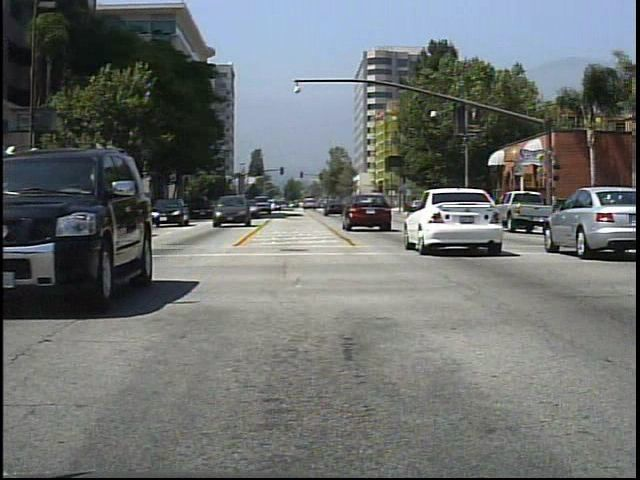person: (538, 192, 556, 228), (497, 189, 514, 224)
